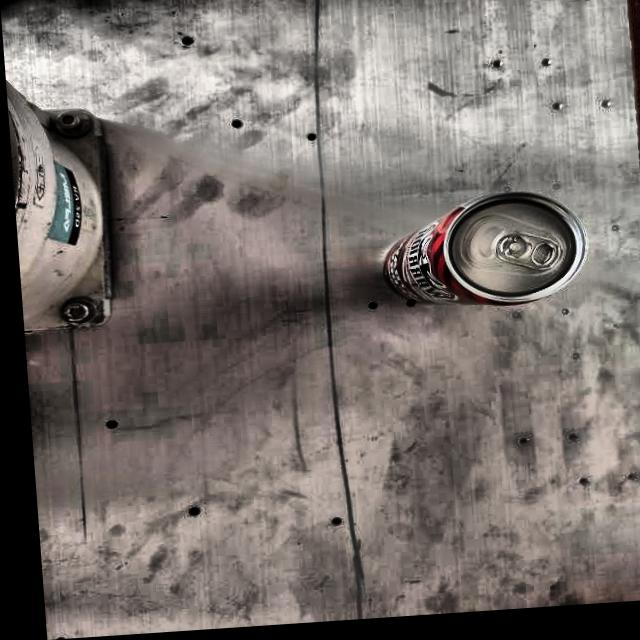can: (370, 178, 589, 332)
